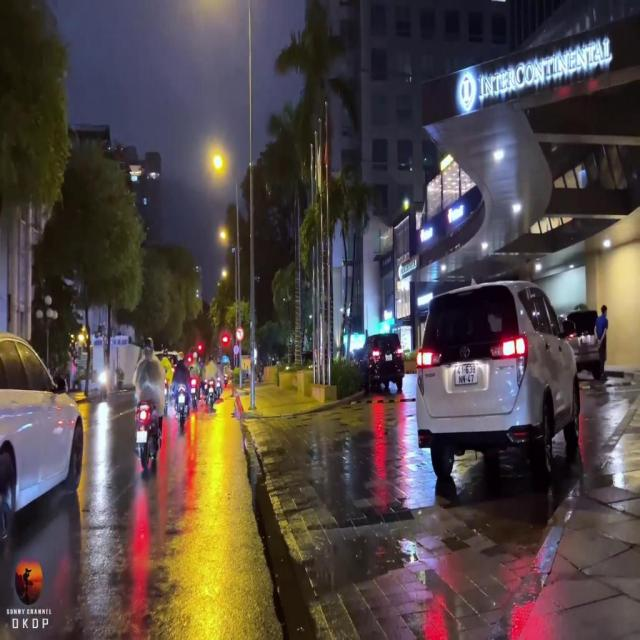cam_do_xe: (234, 344, 239, 354)
cam_re_trai: (236, 327, 243, 341)
